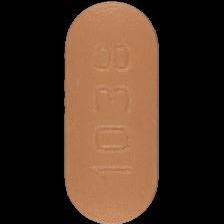53808-0784: (0, 0, 224, 224)
